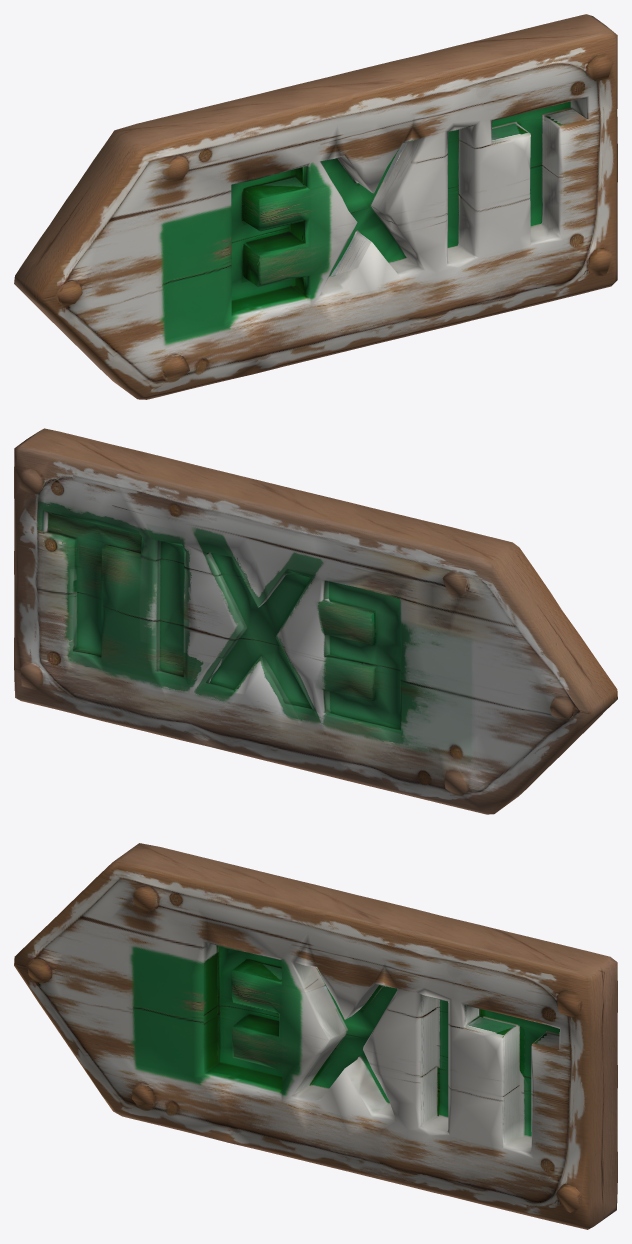
Rendered from hazme_un_cartel_de_se_1109152008_texture.obj.
The picture shows the model from 3 angles, top to bottom: view 1: azimuth 30°, elevation 25°; view 2: azimuth 150°, elevation 25°; view 3: azimuth 330°, elevation 25°; orthographic projection.
Visible parts, largest first — view 1: hazme_un_cartel_de_se_1109152008_texture; view 2: hazme_un_cartel_de_se_1109152008_texture; view 3: hazme_un_cartel_de_se_1109152008_texture.
Boxes of the visible parts, x1,y1,x2,y2 form: hazme_un_cartel_de_se_1109152008_texture: [14, 14, 617, 399]; hazme_un_cartel_de_se_1109152008_texture: [14, 428, 617, 814]; hazme_un_cartel_de_se_1109152008_texture: [14, 843, 617, 1229].
Bounding box in the file's own units: 1.91 × 0.8058 × 0.2015.
Materials: 1 (1 with a texture image).
